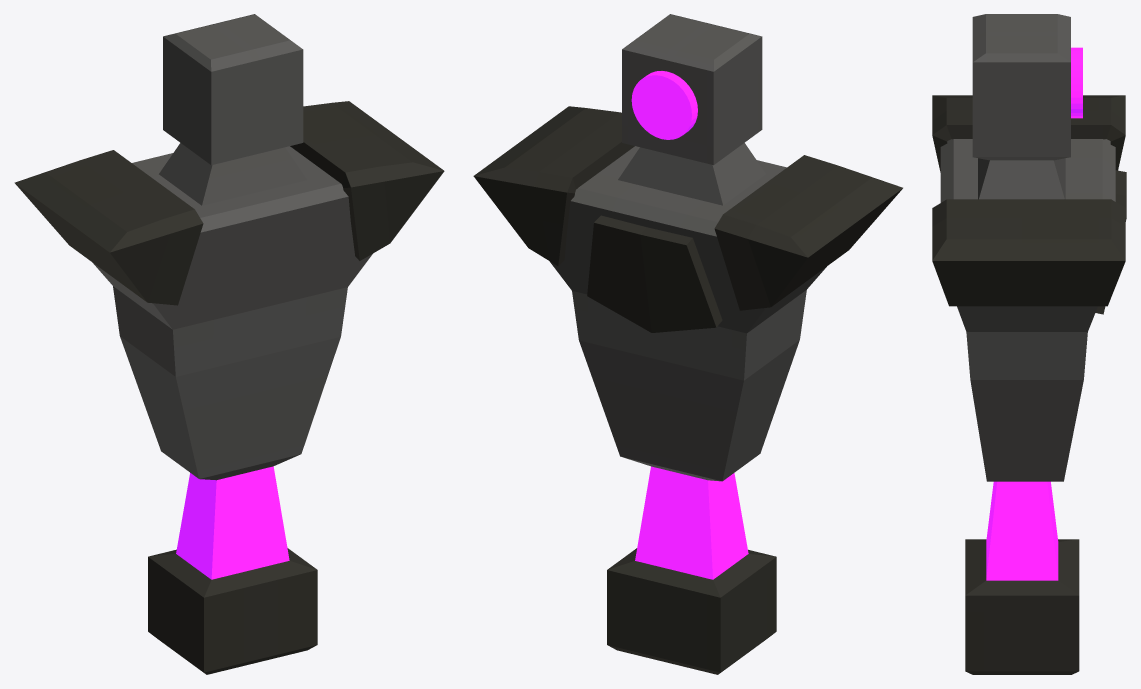
The model's file is pogo-bot.glb.
3 views of the same model, side by side, from view 1: azimuth 30°, elevation 25°; view 2: azimuth 150°, elevation 25°; view 3: azimuth 270°, elevation 25° (orthographic).
Visible parts, largest first — view 1: Cube; view 2: Cube; view 3: Cube.
Boxes of the visible parts, box(x1,y1,x2,y2) form: Cube: box(14, 14, 444, 674); Cube: box(473, 14, 902, 674); Cube: box(932, 14, 1126, 674).
Bounding box in the file's own units: 1.71 × 2.96 × 0.8475.
1 material, 1 textured.
